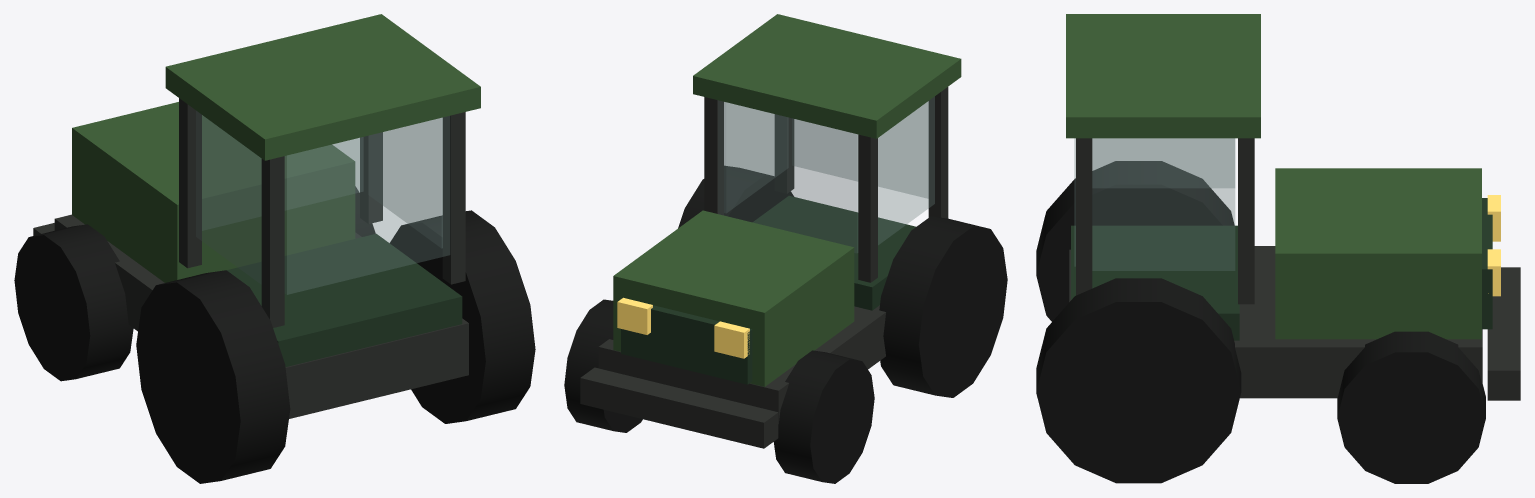
The model's file is tractor-no-driver.glb.
3 views of the same model, side by side, from view 1: azimuth 30°, elevation 25°; view 2: azimuth 150°, elevation 25°; view 3: azimuth 270°, elevation 25° (orthographic). The views are drawn at different scales.
Parts seen in each view (by area): view 1: hood, cab-roof, rear-wheel--0.84, rear-glass, cab-floor, rear-wheel-0.84, front-wheel--0.84, chassis, front-glass, left-glass, right-glass, cab-post--0.62-1.16 (+3 smaller); view 2: hood, cab-roof, rear-wheel--0.84, front-glass, front-wheel--0.84, bumper, chassis, rear-glass, left-glass, engine-grille, cab-floor, right-glass (+8 smaller); view 3: hood, rear-wheel-0.84, cab-roof, right-glass, front-wheel-0.84, rear-wheel--0.84, cab-floor, chassis, left-glass, bumper, cab-post-0.62-0.18, cab-post-0.62-1.16 (+3 smaller).
Part boxes in pixels (box(x1,y1,x2,y2)): hood: box(72, 102, 355, 282); cab-roof: box(165, 14, 480, 160); rear-wheel--0.84: box(136, 270, 290, 483); rear-glass: box(285, 116, 449, 294); cab-floor: box(227, 234, 462, 366); rear-wheel-0.84: box(390, 210, 535, 423); front-wheel--0.84: box(14, 224, 133, 381); chassis: box(54, 214, 468, 418); front-glass: box(202, 115, 362, 230); left-glass: box(196, 111, 261, 284); right-glass: box(369, 118, 442, 247); cab-post--0.62-1.16: box(261, 156, 284, 327); hood: box(613, 210, 854, 386); cab-roof: box(693, 14, 961, 138); rear-wheel--0.84: box(879, 216, 1007, 397); front-glass: box(718, 100, 857, 252); front-wheel--0.84: box(773, 350, 874, 483); bumper: box(580, 367, 778, 448); chassis: box(598, 305, 885, 424); rear-glass: box(792, 102, 927, 197); left-glass: box(878, 97, 934, 244); engine-grille: box(621, 305, 752, 384); cab-floor: box(753, 196, 915, 310); right-glass: box(724, 102, 787, 212); hood: box(1275, 168, 1481, 339); rear-wheel-0.84: box(1036, 278, 1241, 483); cab-roof: box(1066, 14, 1260, 138); right-glass: box(1092, 138, 1234, 270); front-wheel-0.84: box(1337, 331, 1485, 483); rear-wheel--0.84: box(1036, 161, 1234, 321); cab-floor: box(1071, 225, 1239, 340); chassis: box(1069, 246, 1482, 398); left-glass: box(1093, 139, 1234, 187); bumper: box(1487, 267, 1520, 400); cab-post-0.62-0.18: box(1238, 138, 1254, 304); cab-post-0.62-1.16: box(1076, 138, 1092, 295).
Bounding box in the file's own units: 2.02 × 2.33 × 2.93.
